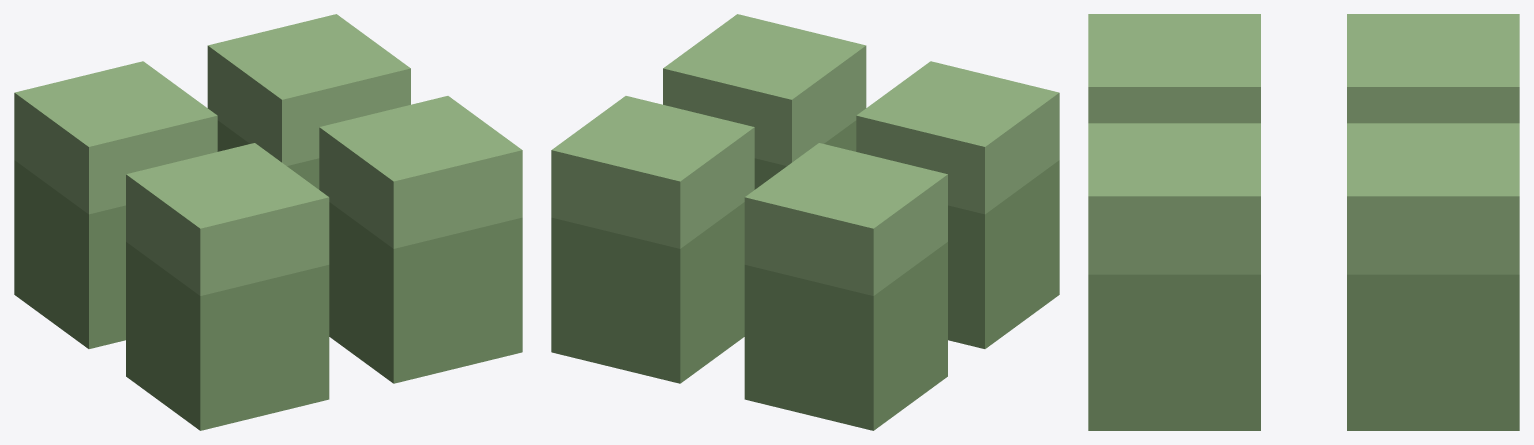
Rendered from culture_choux.glb.
The picture shows the model from 3 angles, left to right: view 1: azimuth 30°, elevation 25°; view 2: azimuth 150°, elevation 25°; view 3: azimuth 270°, elevation 25°; orthographic projection. The views are drawn at different scales.
Visible parts, largest first — view 1: geometry_0; view 2: geometry_0; view 3: geometry_0.
Boxes of the visible parts, x1=… form: geometry_0: x1=14, y1=14, x2=522, y2=430; geometry_0: x1=551, y1=14, x2=1059, y2=430; geometry_0: x1=1088, y1=14, x2=1519, y2=430.
Bounding box in the file's own units: 0.625 × 0.375 × 0.625.
